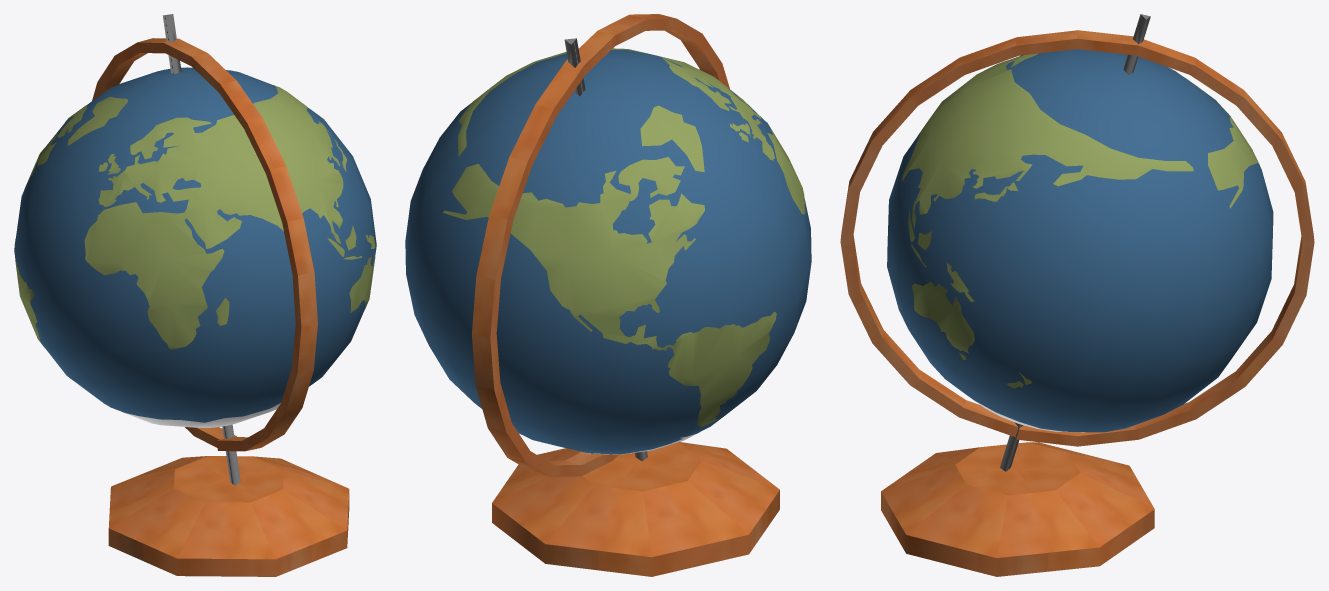
Rendered from map.obj.
3 renders of one model, left to right at view 1: azimuth 30°, elevation 25°; view 2: azimuth 150°, elevation 25°; view 3: azimuth 270°, elevation 25°, orthographic. The views are drawn at different scales.
Visible parts, largest first — view 1: Mesh8 Group3 globe1 Model, Mesh29 globe_quarter8 Group4 globe1 Model, Mesh23 globe_quarter2 Group4 globe1 Model, Mesh24 globe_quarter3 Group4 globe1 Model, Mesh4 globe_base_quarter2 Model, Mesh2 Group2 Model, Mesh26 globe_quarter5 Group4 globe1 Model, Mesh3 globe_base_quarter1 Model, Mesh5 globe_base_quarter3 Model, Mesh25 globe_quarter4 Group4 globe1 Model, Mesh27 globe_quarter6 Group4 globe1 Model, Mesh1 Group1 Model (+6 smaller); view 2: Mesh23 globe_quarter2 Group4 globe1 Model, Mesh22 globe_quarter1 Group4 globe1 Model, Mesh7 Group3 globe1 Model, Mesh5 globe_base_quarter3 Model, Mesh1 Group1 Model, Mesh6 globe_base_quarter4 Model, Mesh28 globe_quarter7 Group4 globe1 Model, Mesh26 globe_quarter5 Group4 globe1 Model, Mesh24 globe_quarter3 Group4 globe1 Model, Mesh25 globe_quarter4 Group4 globe1 Model, Mesh4 globe_base_quarter2 Model, Mesh2 Group2 Model (+4 smaller); view 3: Mesh25 globe_quarter4 Group4 globe1 Model, Mesh27 globe_quarter6 Group4 globe1 Model, Mesh22 globe_quarter1 Group4 globe1 Model, Mesh8 Group3 globe1 Model, Mesh3 globe_base_quarter1 Model, Mesh2 Group2 Model, Mesh1 Group1 Model, Mesh6 globe_base_quarter4 Model, Mesh28 globe_quarter7 Group4 globe1 Model, Mesh24 globe_quarter3 Group4 globe1 Model, Mesh4 globe_base_quarter2 Model, Mesh29 globe_quarter8 Group4 globe1 Model (+5 smaller).
Part boxes in pixels (<box>): Mesh8 Group3 globe1 Model: <box>84,85,343,349</box>; Mesh29 globe_quarter8 Group4 globe1 Model: <box>103,245,350,422</box>; Mesh23 globe_quarter2 Group4 globe1 Model: <box>14,72,170,285</box>; Mesh24 globe_quarter3 Group4 globe1 Model: <box>101,72,346,285</box>; Mesh4 globe_base_quarter2 Model: <box>143,479,311,576</box>; Mesh2 Group2 Model: <box>163,39,317,451</box>; Mesh26 globe_quarter5 Group4 globe1 Model: <box>20,275,170,419</box>; Mesh3 globe_base_quarter1 Model: <box>239,463,349,562</box>; Mesh5 globe_base_quarter3 Model: <box>108,462,228,560</box>; Mesh25 globe_quarter4 Group4 globe1 Model: <box>181,67,373,240</box>; Mesh27 globe_quarter6 Group4 globe1 Model: <box>309,222,376,386</box>; Mesh1 Group1 Model: <box>92,38,235,447</box>; Mesh23 globe_quarter2 Group4 globe1 Model: <box>576,93,807,377</box>; Mesh22 globe_quarter1 Group4 globe1 Model: <box>405,97,610,380</box>; Mesh7 Group3 globe1 Model: <box>443,157,776,427</box>; Mesh5 globe_base_quarter3 Model: <box>598,463,764,576</box>; Mesh1 Group1 Model: <box>471,61,618,476</box>; Mesh6 globe_base_quarter4 Model: <box>492,460,635,570</box>; Mesh28 globe_quarter7 Group4 globe1 Model: <box>410,295,634,454</box>; Mesh26 globe_quarter5 Group4 globe1 Model: <box>611,225,811,451</box>; Mesh24 globe_quarter3 Group4 globe1 Model: <box>576,49,806,222</box>; Mesh25 globe_quarter4 Group4 globe1 Model: <box>405,53,576,256</box>; Mesh4 globe_base_quarter2 Model: <box>636,442,779,531</box>; Mesh2 Group2 Model: <box>566,14,729,88</box>; Mesh25 globe_quarter4 Group4 globe1 Model: <box>921,74,1186,337</box>; Mesh27 globe_quarter6 Group4 globe1 Model: <box>909,244,1170,432</box>; Mesh22 globe_quarter1 Group4 globe1 Model: <box>1136,74,1273,337</box>; Mesh8 Group3 globe1 Model: <box>901,53,1193,228</box>; Mesh3 globe_base_quarter1 Model: <box>893,469,1048,576</box>; Mesh2 Group2 Model: <box>840,30,1138,437</box>; Mesh1 Group1 Model: <box>1016,39,1314,446</box>; Mesh6 globe_base_quarter4 Model: <box>1018,463,1154,571</box>; Mesh28 globe_quarter7 Group4 globe1 Model: <box>1092,302,1263,432</box>; Mesh24 globe_quarter3 Group4 globe1 Model: <box>895,49,1134,236</box>; Mesh4 globe_base_quarter2 Model: <box>881,444,1017,531</box>; Mesh29 globe_quarter8 Group4 globe1 Model: <box>887,178,936,369</box>.
Bounding box in the file's own units: 13.9 × 19.99 × 17.08.
